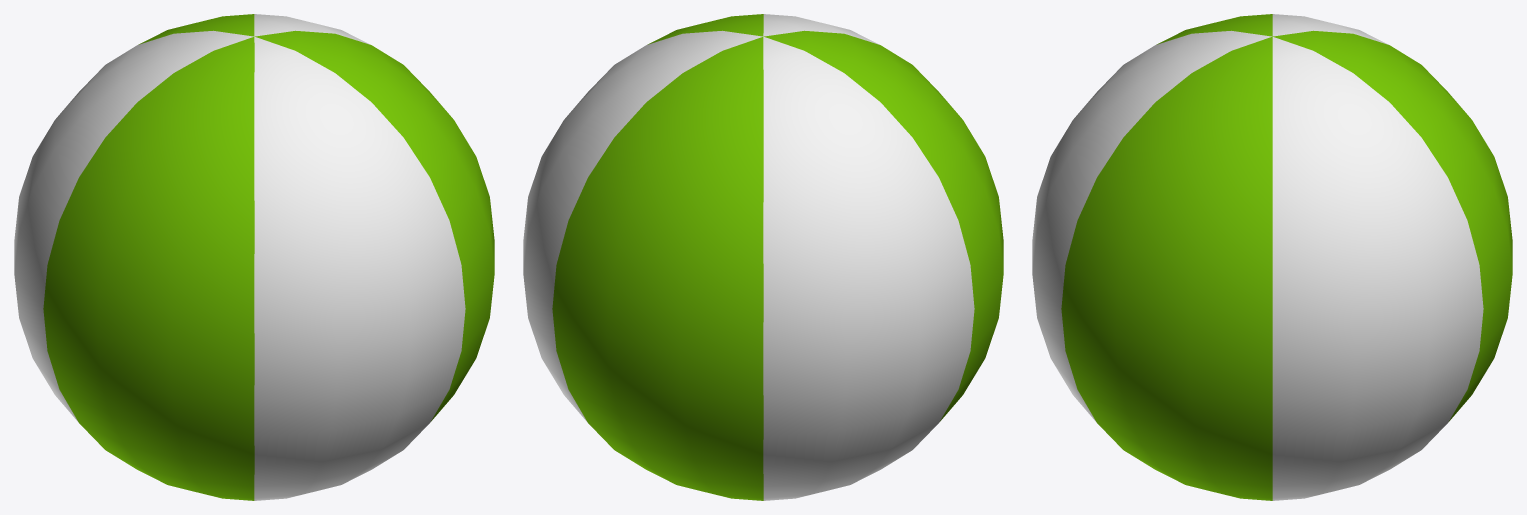
Rendered from Volleyball_Green.fbx.
3 views of the same model, side by side, from view 1: azimuth 30°, elevation 25°; view 2: azimuth 150°, elevation 25°; view 3: azimuth 270°, elevation 25° (orthographic).
Parts seen in each view (by area): view 1: Volleyball_Green; view 2: Volleyball_Green; view 3: Volleyball_Green.
Boxes of the visible parts, bbox=[...] form: Volleyball_Green: bbox=[14, 14, 494, 500]; Volleyball_Green: bbox=[523, 14, 1003, 500]; Volleyball_Green: bbox=[1032, 14, 1512, 500].
Size of the model in its own units: 96.75 by 96.75 by 95.28.
